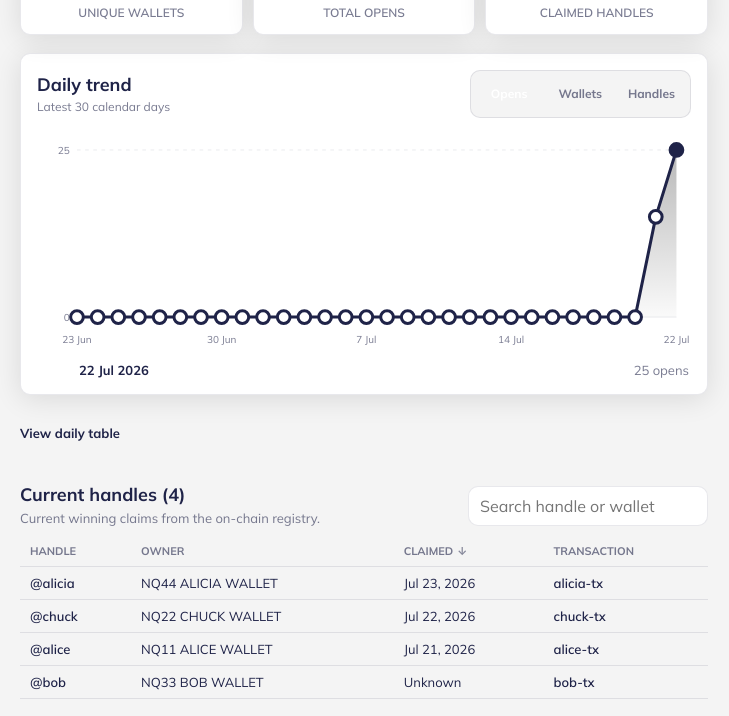
AdminStatsPage › shows empty registry and empty search result states
(page scrolled)
Type "nobody" into the search field with placeholder "Search handle or wallet" at [588, 506], box [468,486,708,526]
(page scrolled)
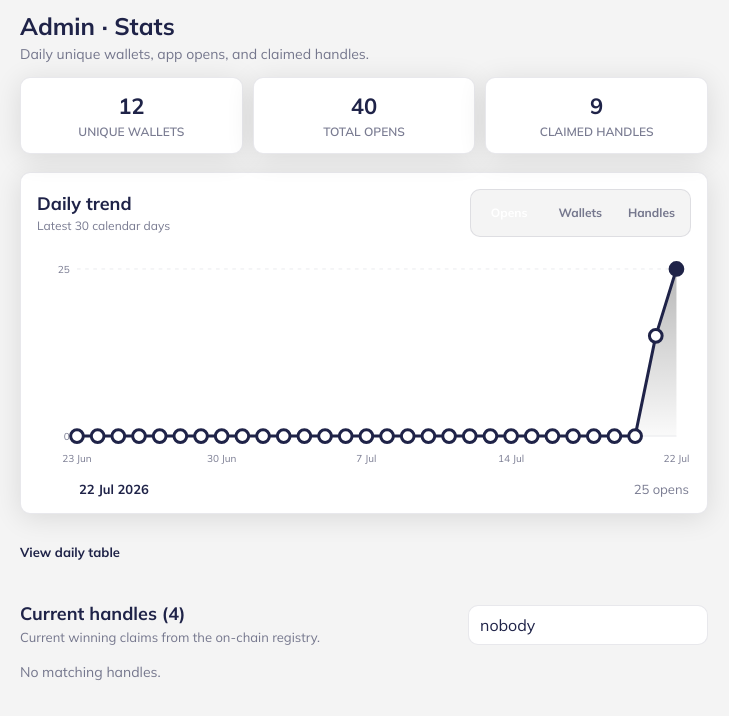
Check: the text "No matching handles." is shown, box [20,663,161,681]
